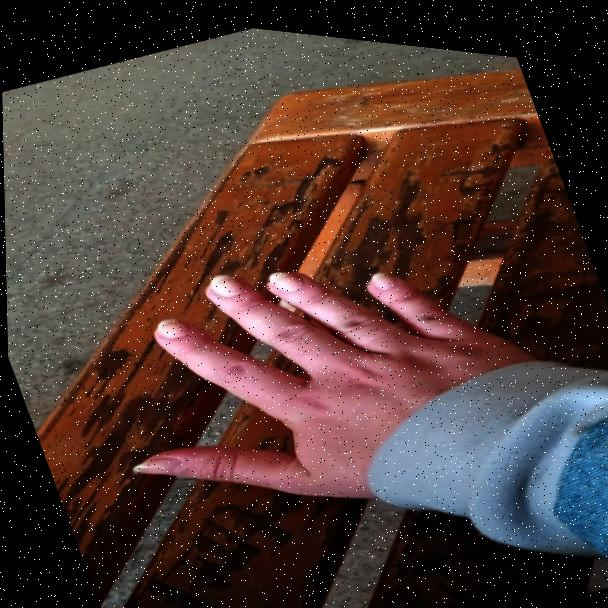five: (60, 144, 603, 597)
